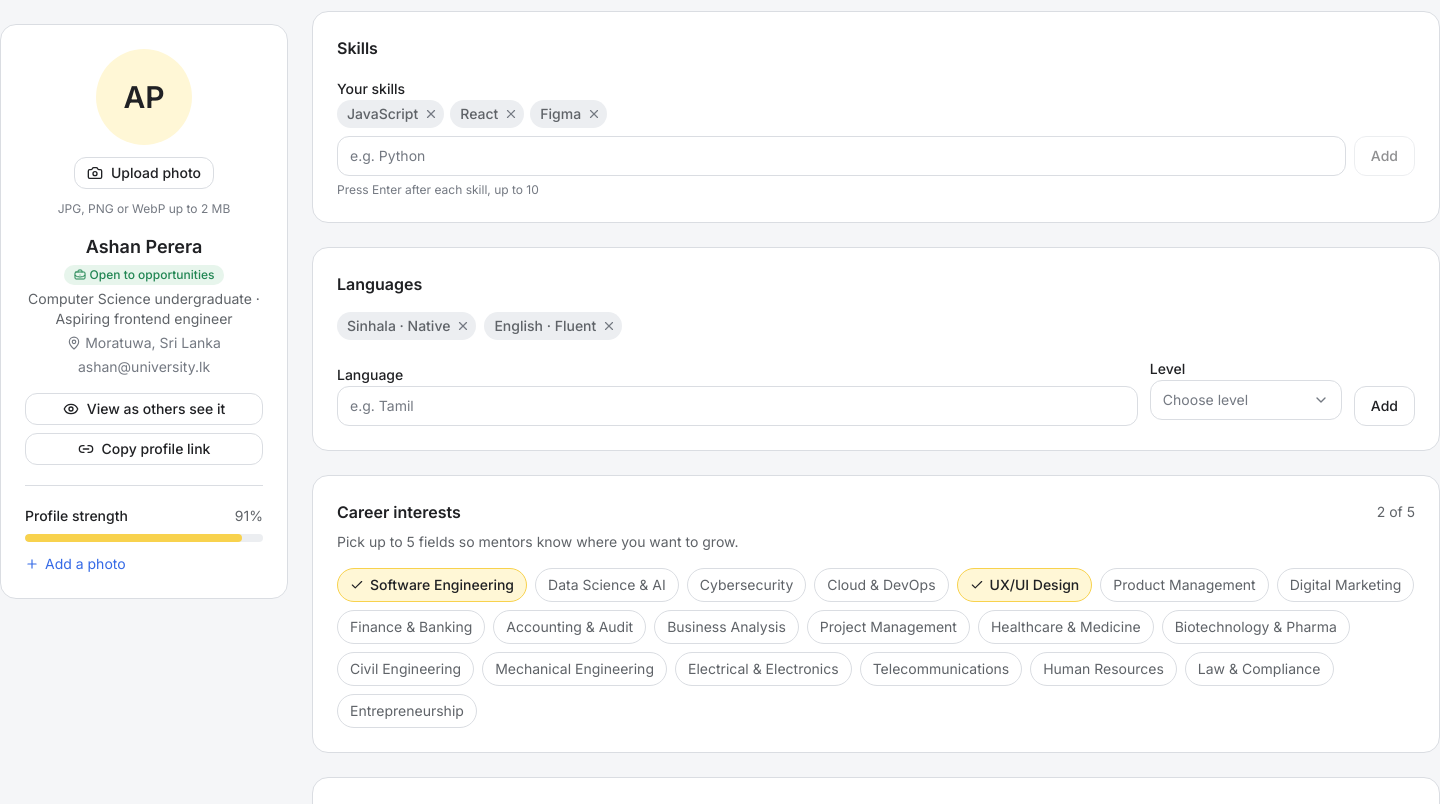
Scenario: StudentProfileForm › adds a language with its level guarded against duplicates
(page scrolled)
Type "sinhala" into the field labelled "Language" at (737, 406), box [337,386,1138,426]
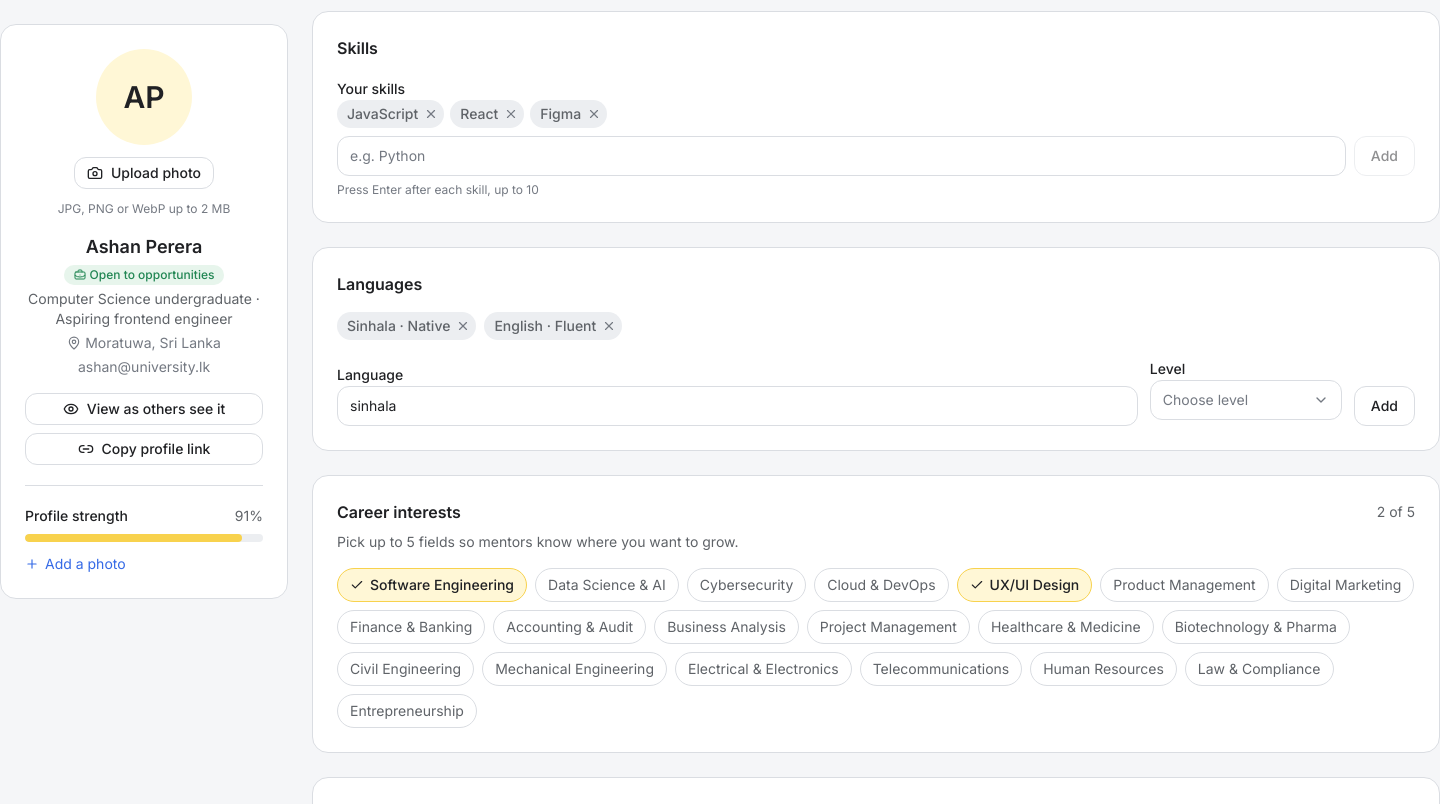
Click the 2nd button "Add" at (1384, 406), box [1354,386,1415,426]
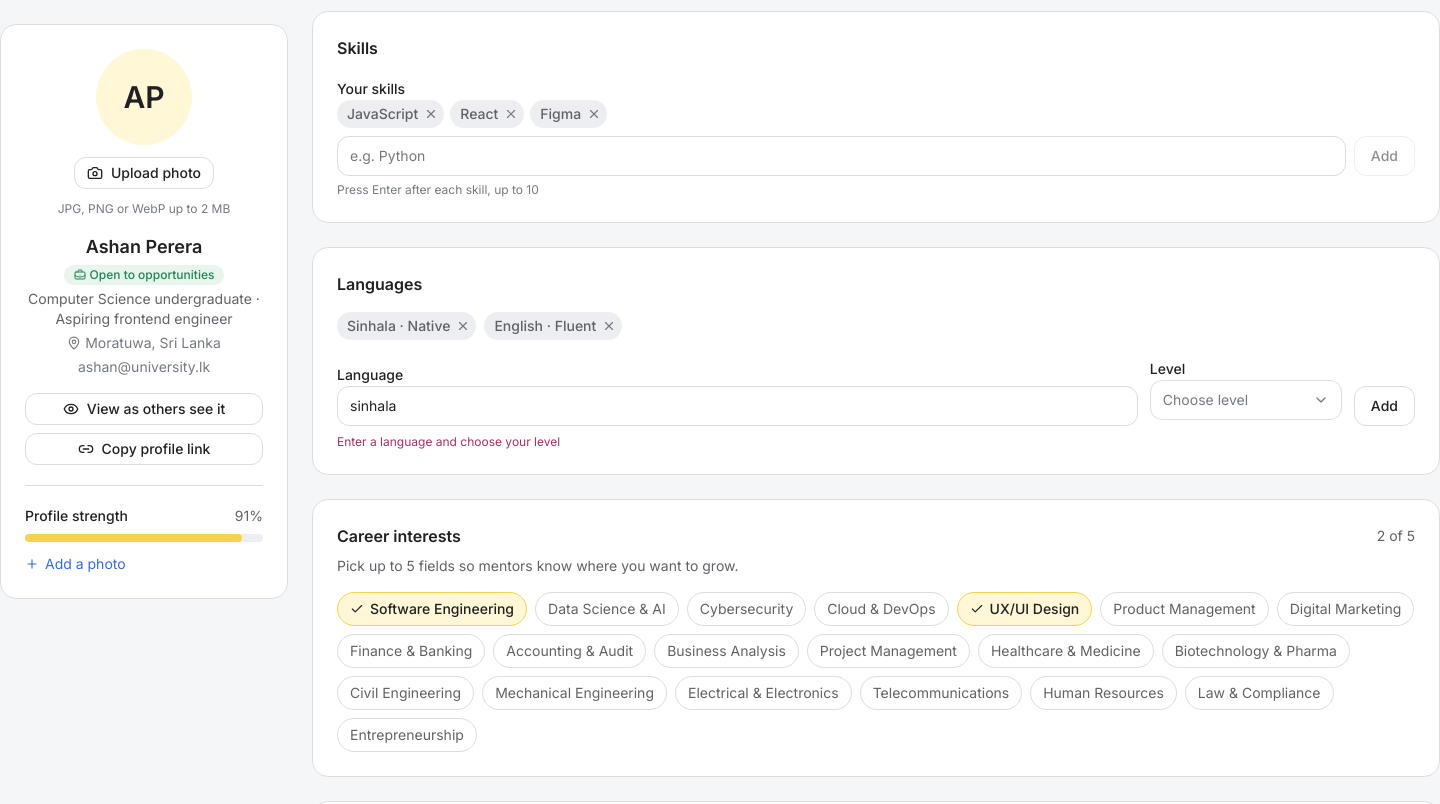
Expected: the text "Enter a language and choose your level" is shown, [337,434,560,448]
